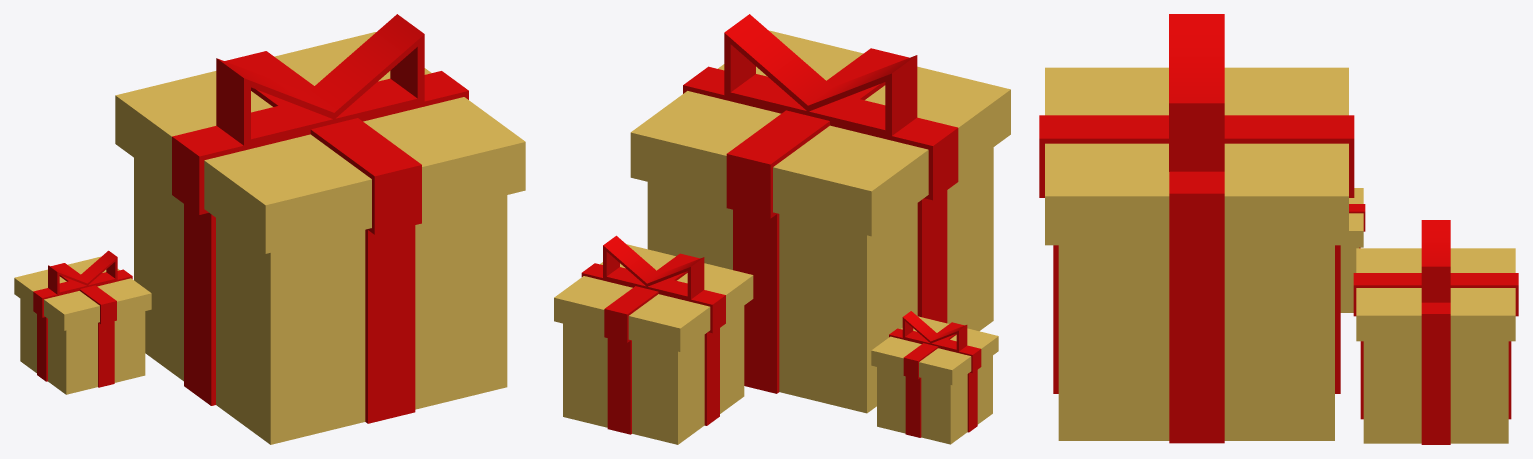
The model's file is 074 Gift_Boxes.fbx.
3 views of the same model, side by side, from view 1: azimuth 30°, elevation 25°; view 2: azimuth 150°, elevation 25°; view 3: azimuth 270°, elevation 25° (orthographic). The views are drawn at different scales.
Visible parts, largest first — view 1: Lowpoly_Christmas_Pack_074:pCube8; view 2: Lowpoly_Christmas_Pack_074:pCube8; view 3: Lowpoly_Christmas_Pack_074:pCube8.
Boxes of the visible parts, left/top/right/bottom form: Lowpoly_Christmas_Pack_074:pCube8: left=14, top=14, right=525, bottom=444; Lowpoly_Christmas_Pack_074:pCube8: left=554, top=14, right=1010, bottom=444; Lowpoly_Christmas_Pack_074:pCube8: left=1039, top=14, right=1518, bottom=444.
Bounding box in the file's own units: 1.52 × 1.29 × 1.73.
